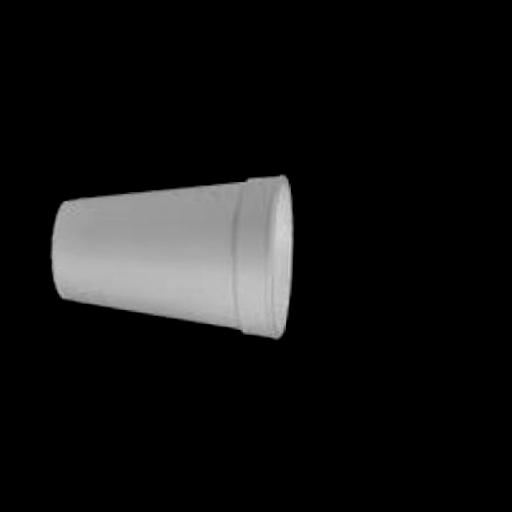paper: (50, 170, 296, 344)
